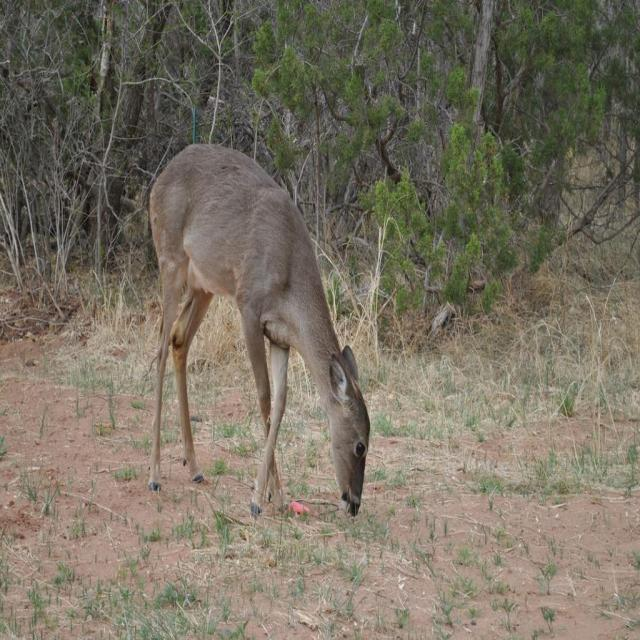Deer: (148, 140, 372, 521)
